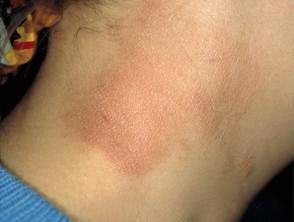Eczema: (129, 113, 155, 139), (77, 85, 106, 104), (120, 147, 145, 168), (115, 80, 137, 102), (97, 108, 118, 127), (69, 112, 91, 129), (108, 21, 127, 35), (245, 160, 257, 177), (99, 132, 116, 144)
